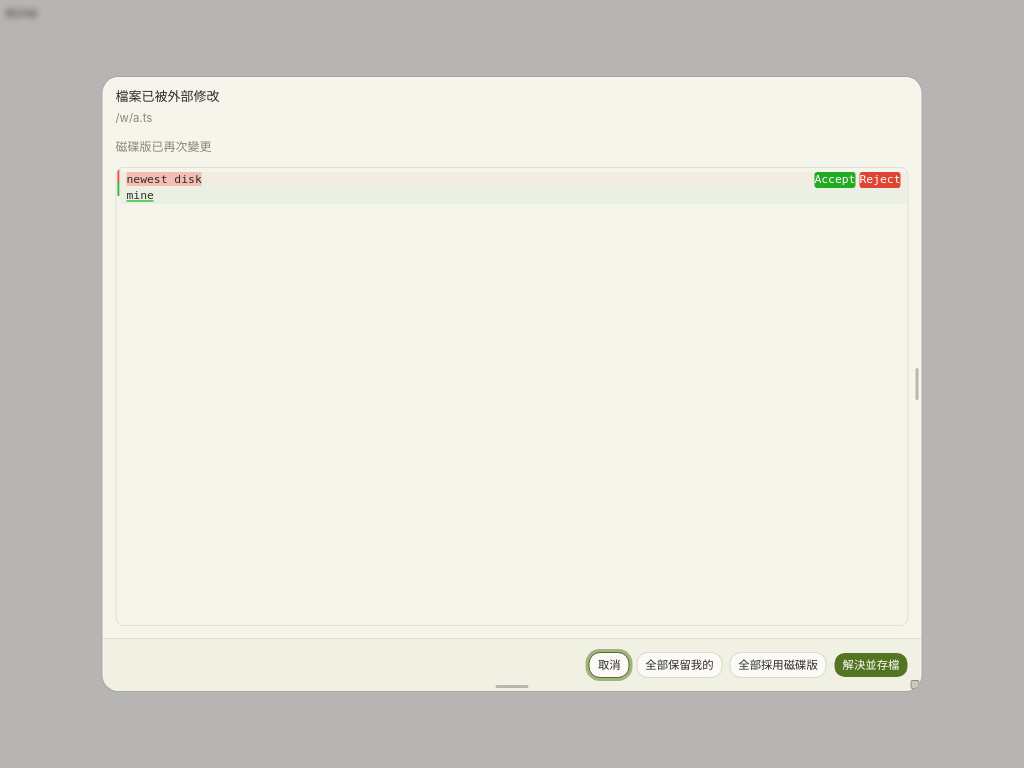
Test: ignores a late initial failure after a newer watcher read succeeded
Expected: the button "解決並存檔" is enabled, [833,652,908,678]
Click the button "全部採用磁碟版": click(778, 665) [729,652,827,678]
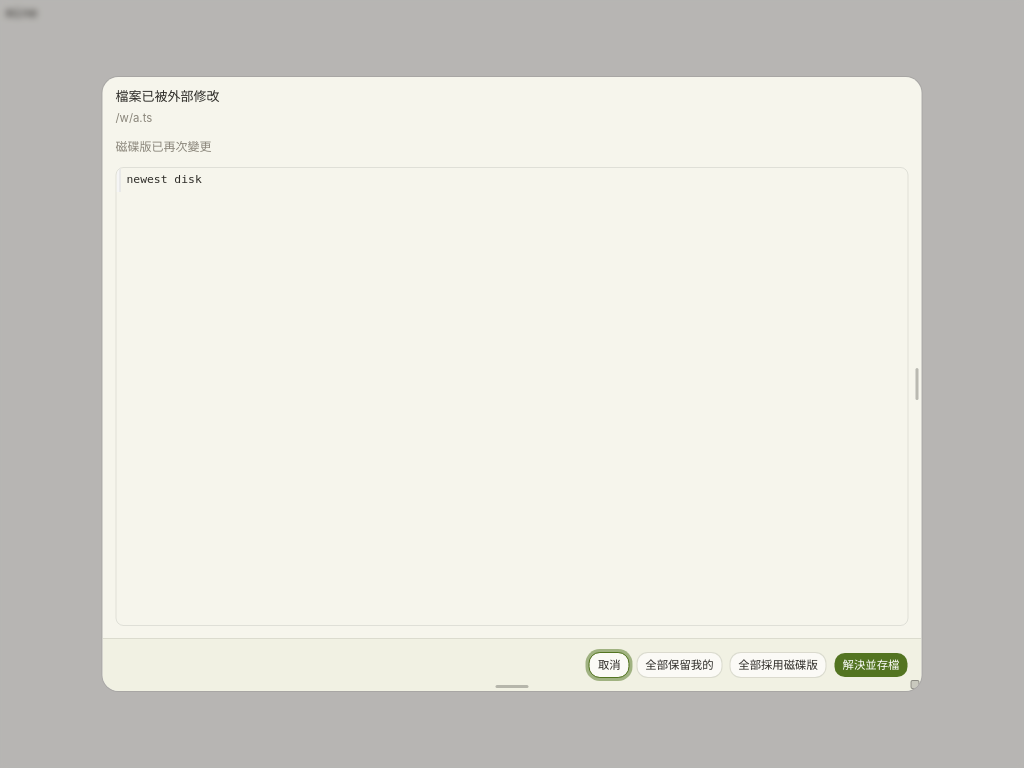
Now the text box labelled "newest disk" is shown, box [126,172,202,186]
